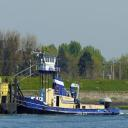tugboat: (5, 49, 122, 119)
